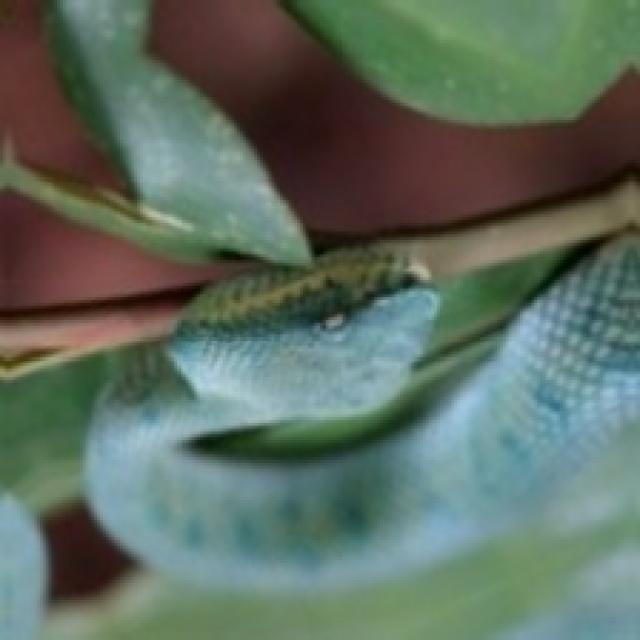north ph temple pitviper: (86, 237, 637, 586)
